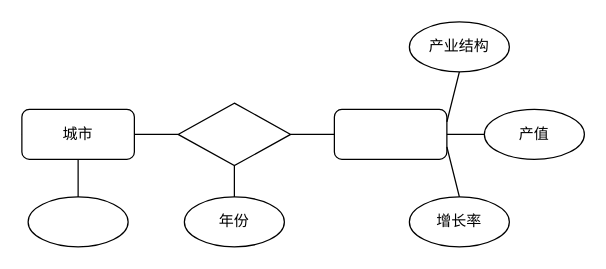
This 606x269 diagram has some shape labels left out. The box of each missing label's shape, as (x1, y1, x2, y2) in pixels:
产业: (333, 108, 447, 159)
名称: (27, 196, 128, 247)
承载: (177, 102, 291, 166)
